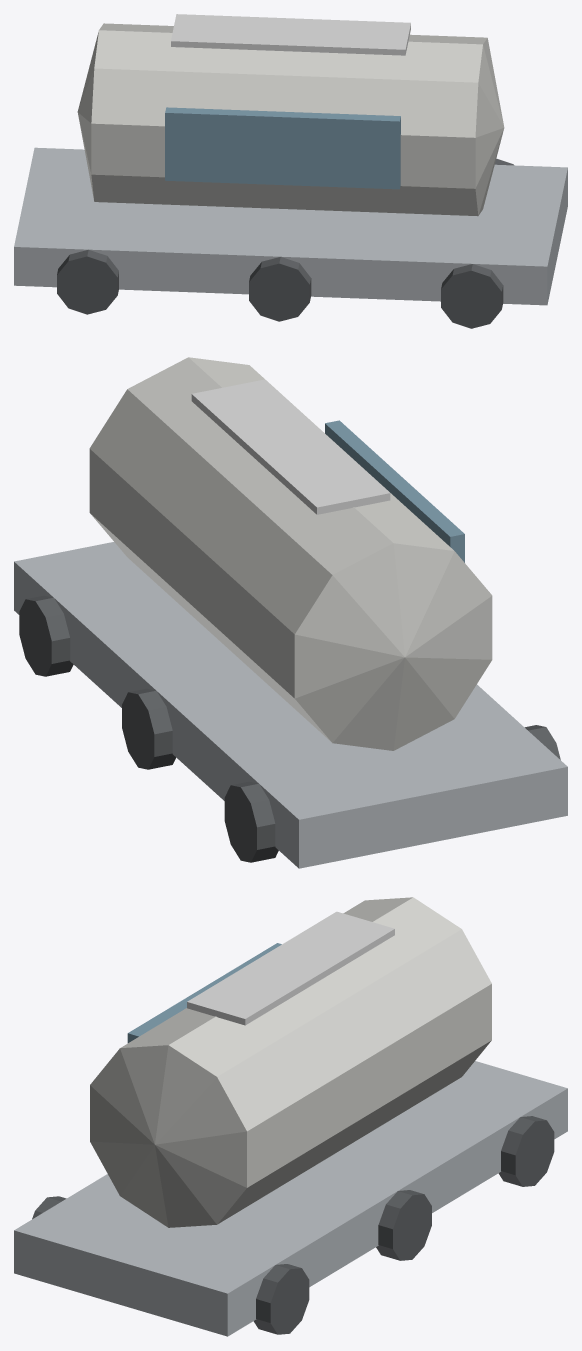
Rendered from ss-stasis-chamber.glb.
3 renders of one model, top to bottom at view 1: azimuth 30°, elevation 25°; view 2: azimuth 150°, elevation 25°; view 3: azimuth 270°, elevation 25°, orthographic. The views are drawn at different scales.
Visible parts, largest first — view 1: LOD0; view 2: LOD0; view 3: LOD0.
Boxes of the visible parts, x1=… form: LOD0: x1=14, y1=14, x2=567, y2=328; LOD0: x1=14, y1=357, x2=567, y2=868; LOD0: x1=14, y1=897, x2=567, y2=1336.
Size of what is drawn, in the model's own units: 1.07 by 0.481 by 0.934.
